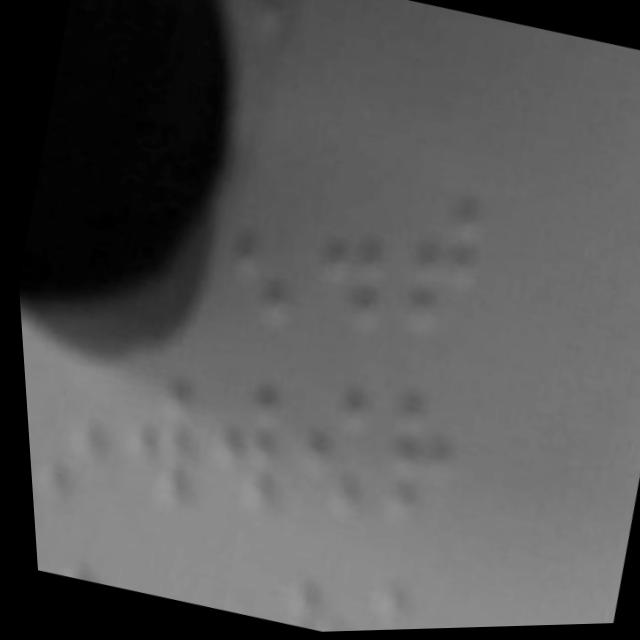braiile: (191, 155, 325, 343), (289, 155, 417, 343), (373, 172, 498, 360), (82, 349, 213, 526), (352, 363, 477, 541), (172, 362, 297, 539), (260, 370, 389, 540), (18, 349, 127, 519), (259, 561, 357, 635), (18, 341, 45, 510)
